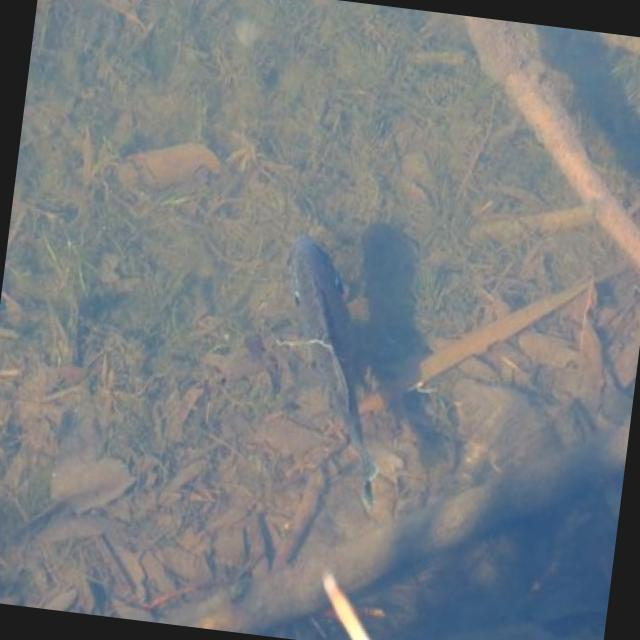Gunes Levregi: (258, 232, 412, 494)
